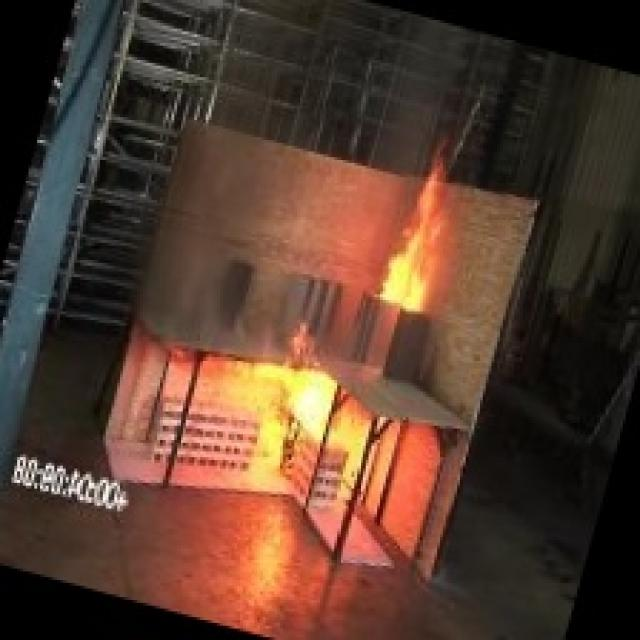fire: (153, 314, 401, 517), (326, 126, 494, 346)
